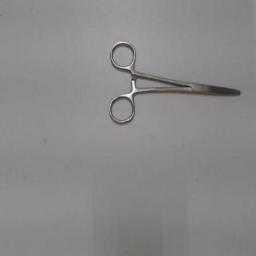Mayo Needle Holder: (105, 35, 245, 129)
